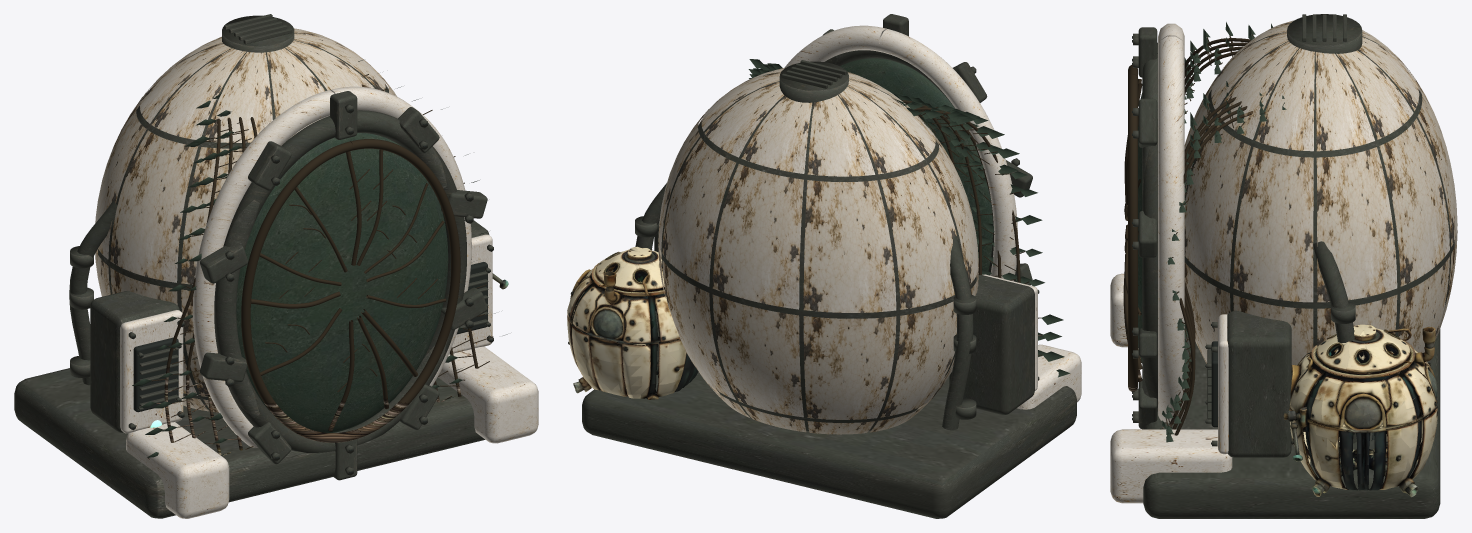
File: secret-membrane-v2.glb
3 views of the same model, side by side, from view 1: azimuth 30°, elevation 25°; view 2: azimuth 150°, elevation 25°; view 3: azimuth 270°, elevation 25° (orthographic). The views are drawn at different scales.
Parts seen in each view (by area): view 1: membrane-bioso-shared-steel, membrane-bioso-shared-membrane, membrane-bioso-shared-ceramic-worn, membrane-bioso-shared-ceramic, membrane-bioso-shared-root, membrane-rubber, membrane-bioso-shared-leaf; view 2: membrane-bioso-shared-ceramic-worn, membrane-bioso-shared-steel, reused-arch-cistern, membrane-bioso-shared-ceramic, membrane-bioso-shared-membrane, membrane-bioso-shared-leaf, membrane-bioso-shared-root; view 3: membrane-bioso-shared-ceramic-worn, membrane-bioso-shared-steel, reused-arch-cistern, membrane-bioso-shared-ceramic, membrane-bioso-shared-root, membrane-bioso-shared-leaf, membrane-bioso-shared-membrane, membrane-rubber.
Boxes of the visible parts, x1,y1,x2,y2 form: membrane-bioso-shared-steel: [14, 14, 493, 518]; membrane-bioso-shared-membrane: [236, 133, 448, 432]; membrane-bioso-shared-ceramic-worn: [95, 28, 396, 412]; membrane-bioso-shared-ceramic: [120, 86, 538, 518]; membrane-bioso-shared-root: [151, 74, 493, 455]; membrane-rubber: [132, 109, 493, 472]; membrane-bioso-shared-leaf: [132, 60, 507, 457]; membrane-bioso-shared-ceramic-worn: [658, 67, 978, 434]; membrane-bioso-shared-steel: [582, 14, 1076, 518]; reused-arch-cistern: [567, 246, 698, 399]; membrane-bioso-shared-ceramic: [784, 25, 1081, 409]; membrane-bioso-shared-membrane: [840, 58, 992, 270]; membrane-bioso-shared-leaf: [748, 59, 1070, 377]; membrane-bioso-shared-root: [902, 100, 1042, 356]; membrane-bioso-shared-ceramic-worn: [1184, 20, 1457, 407]; membrane-bioso-shared-steel: [1133, 14, 1454, 518]; reused-arch-cistern: [1283, 324, 1437, 497]; membrane-bioso-shared-ceramic: [1110, 23, 1232, 503]; membrane-bioso-shared-root: [1123, 34, 1264, 435]; membrane-bioso-shared-leaf: [1160, 22, 1286, 442]; membrane-bioso-shared-membrane: [1138, 93, 1184, 363]; membrane-rubber: [1132, 36, 1217, 444].
Bounding box in the file's own units: 3.29 × 2.83 × 2.22.
Materials: 9 (7 with a texture image).
